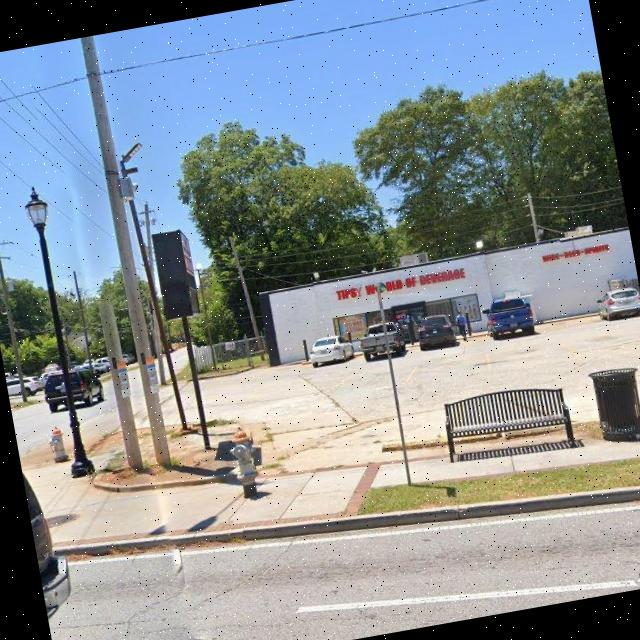seating: (439, 378, 578, 469)
trash_can: (588, 363, 640, 447)
